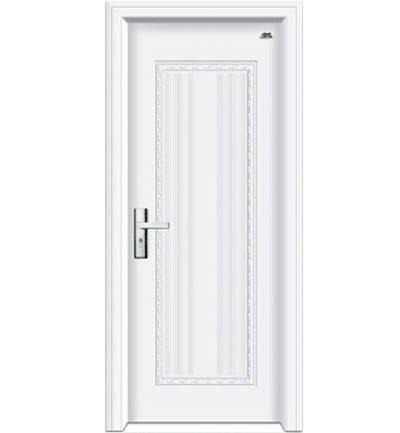door: (131, 24, 284, 423)
